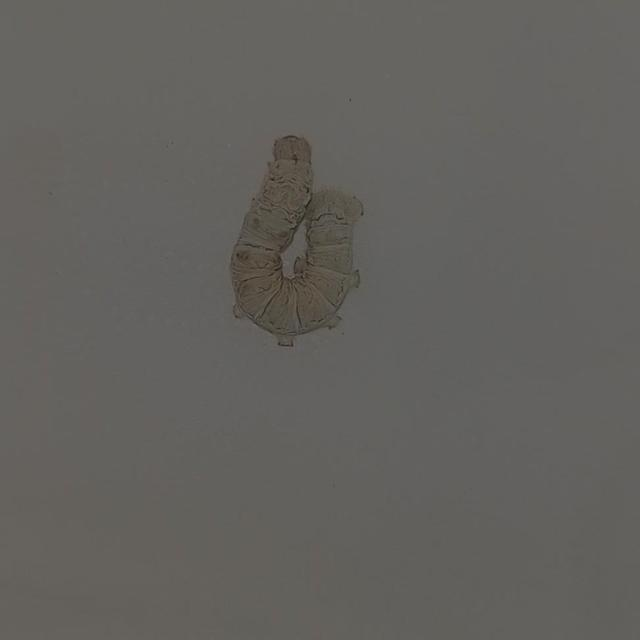Healthy: (207, 122, 385, 367)
